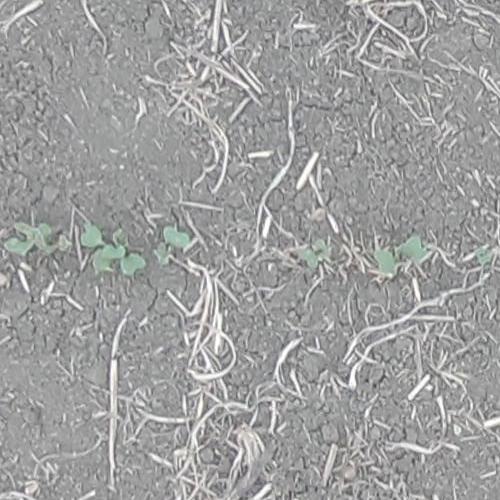clumped: (79, 221, 148, 276)
isolated: (373, 234, 429, 276), (5, 221, 57, 255), (153, 224, 191, 267), (297, 238, 329, 270), (474, 246, 492, 265)
